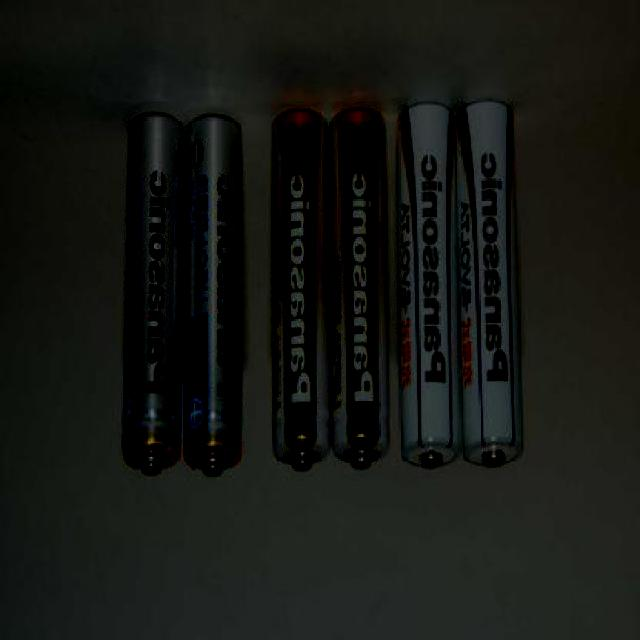AAA: (456, 97, 530, 472), (394, 99, 463, 472), (118, 109, 186, 483), (184, 94, 247, 483), (328, 101, 390, 472), (269, 106, 329, 479)
